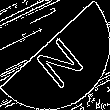N_NW: (25, 23, 85, 87)
